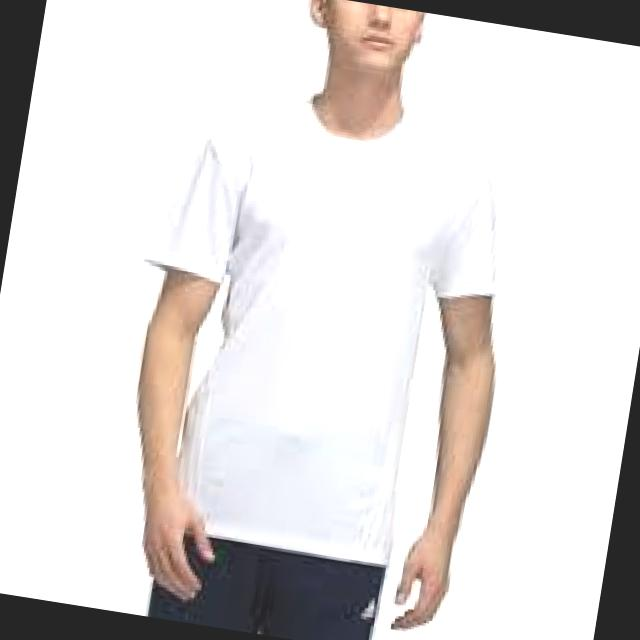Tshirt: (94, 68, 530, 581)
